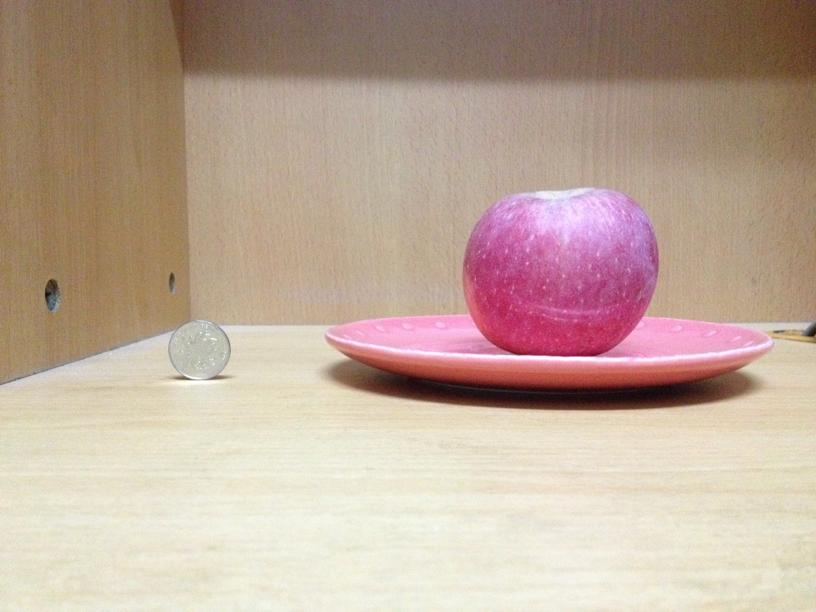apple: (467, 190, 658, 357)
coin: (168, 318, 228, 378)
